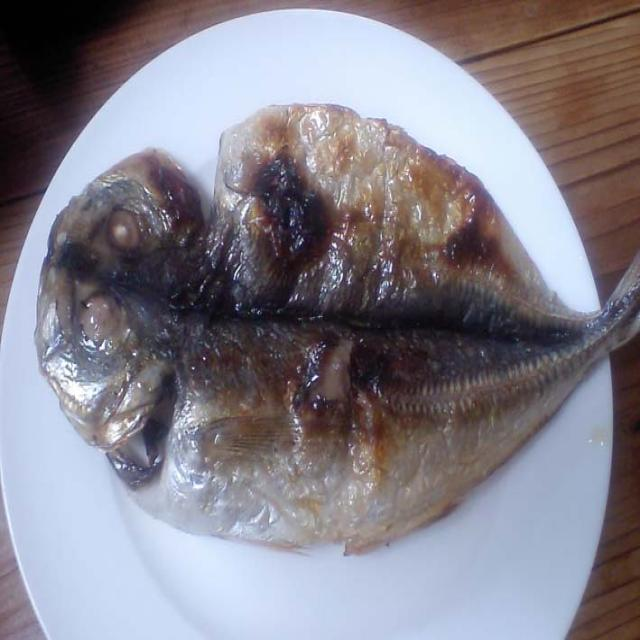熟制海鲜: (34, 100, 640, 568)
